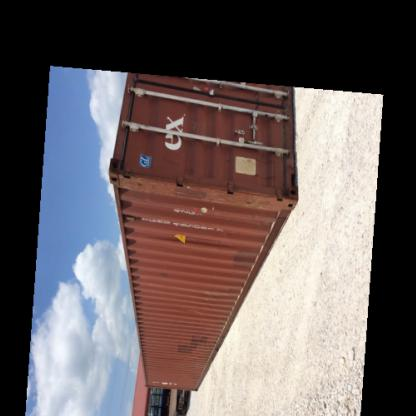Damage: (109, 166, 283, 205)
